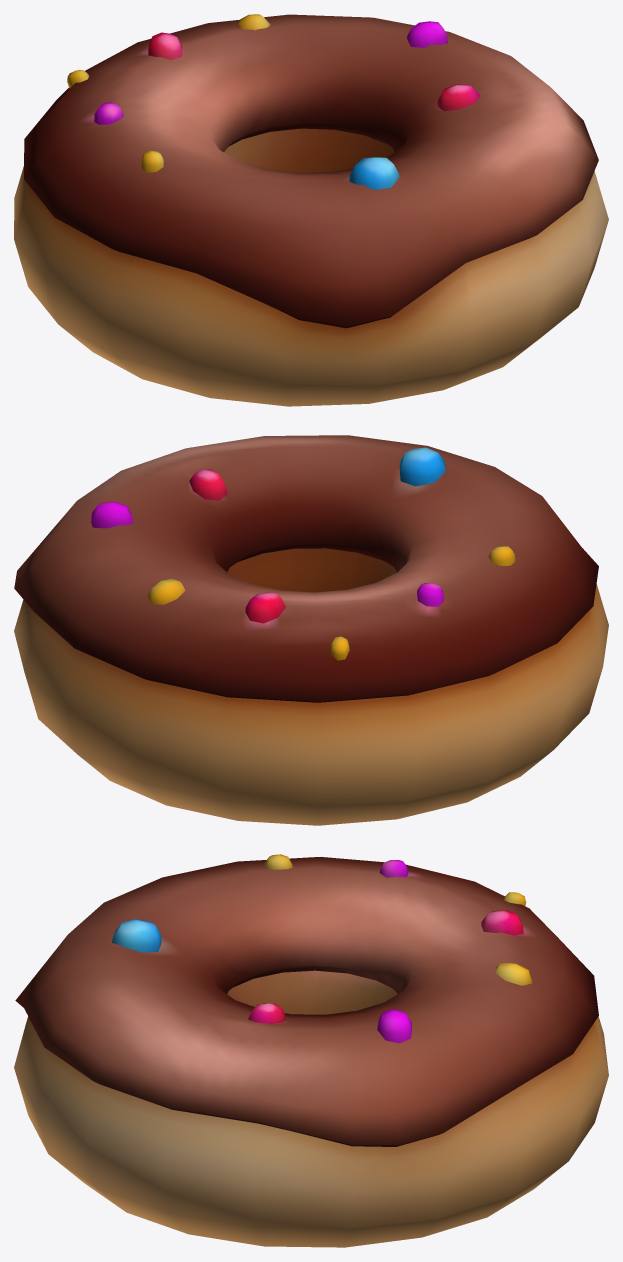
Rendered from Choco Donut.fbx.
3 renders of one model, top to bottom at view 1: azimuth 30°, elevation 25°; view 2: azimuth 150°, elevation 25°; view 3: azimuth 270°, elevation 25°, orthographic.
Parts seen in each view (by area): view 1: Donut_brown; view 2: Donut_brown; view 3: Donut_brown.
Boxes of the visible parts, bbox=[...] form: Donut_brown: bbox=[14, 14, 608, 406]; Donut_brown: bbox=[14, 435, 608, 825]; Donut_brown: bbox=[14, 854, 608, 1247].
Size of the model in its own units: 23.42 by 9.8 by 23.44.
Materials: 1 (1 with a texture image).
